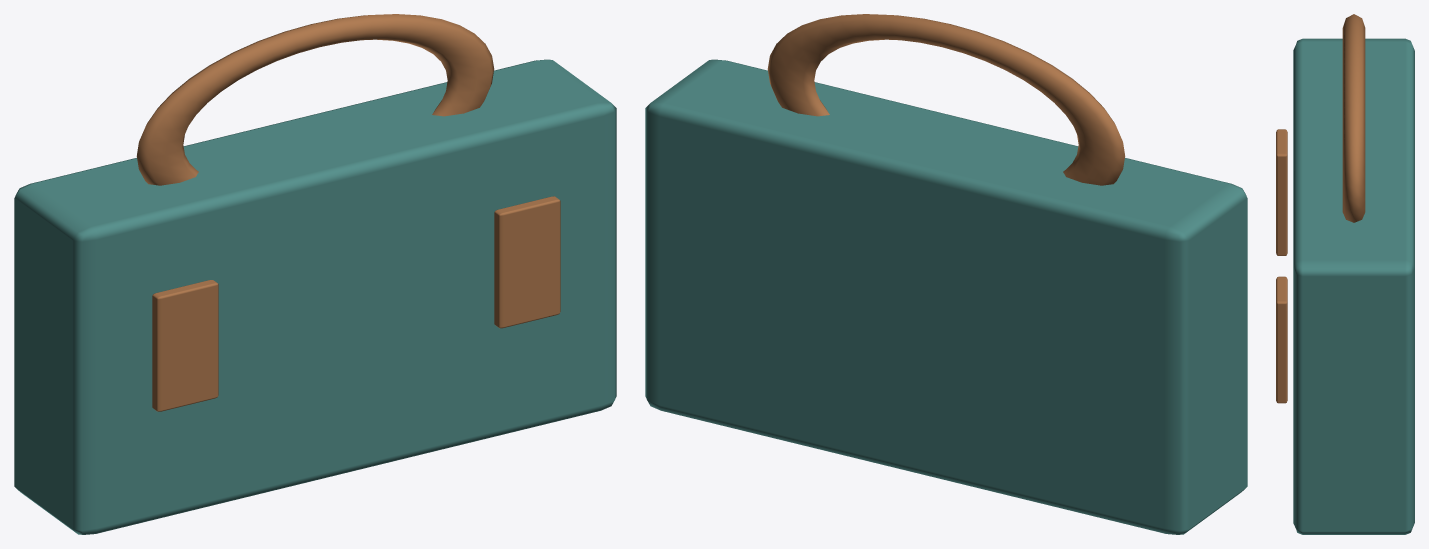
Rendered from wp-porte-documents.glb.
The picture shows the model from 3 angles, left to right: view 1: azimuth 30°, elevation 25°; view 2: azimuth 150°, elevation 25°; view 3: azimuth 270°, elevation 25°; orthographic projection. The views are drawn at different scales.
Visible parts, largest first — view 1: wp-porte-documents; view 2: wp-porte-documents; view 3: wp-porte-documents.
Boxes of the visible parts, <box> form: wp-porte-documents: <box>14,14,616,534</box>; wp-porte-documents: <box>645,14,1247,534</box>; wp-porte-documents: <box>1276,14,1414,534</box>.
Size of the model in its own units: 0.4 by 0.3 by 0.1.
